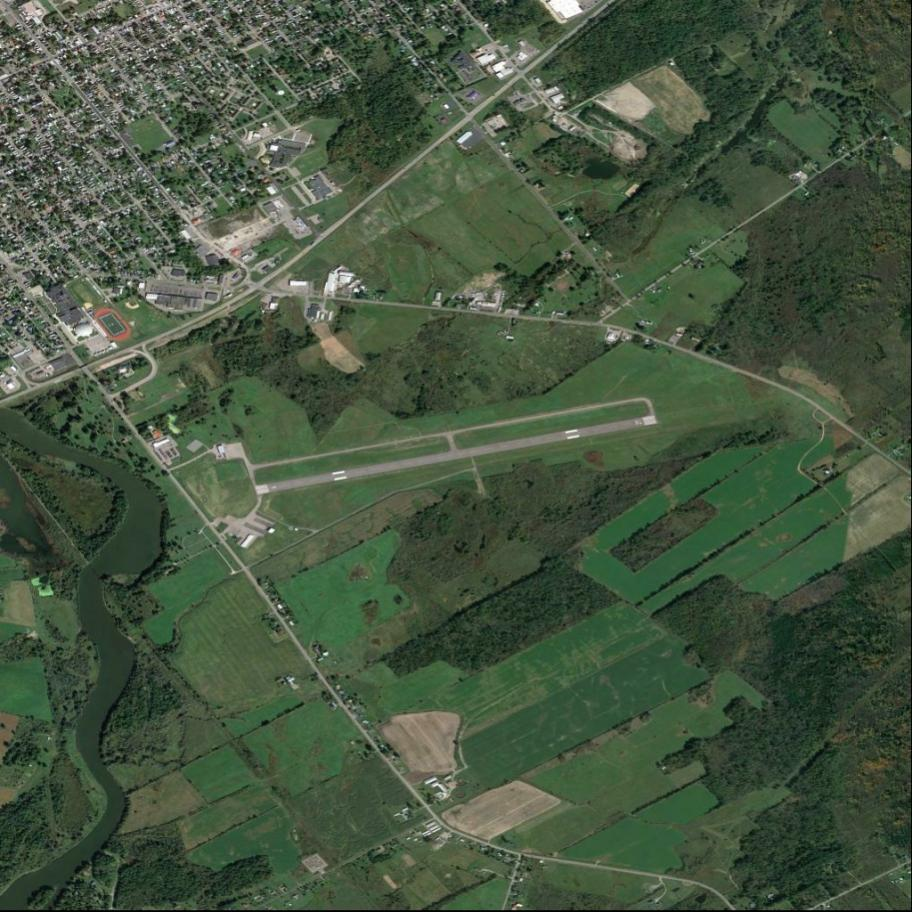storage-tank: (73, 323, 93, 338)
